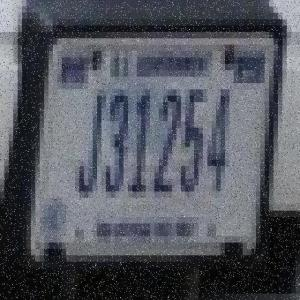Plate: (14, 0, 282, 286)
